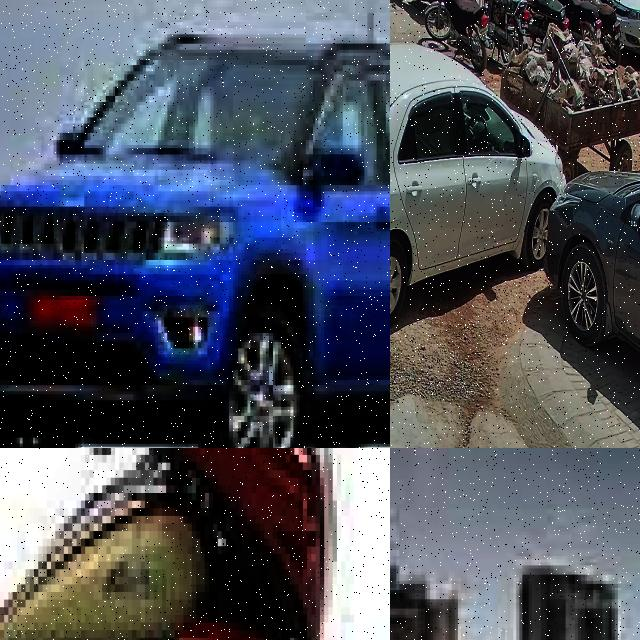bike: (0, 448, 390, 640), (424, 0, 492, 72), (569, 0, 624, 67), (473, 0, 529, 62), (510, 0, 568, 50), (548, 0, 601, 46)
car: (0, 0, 390, 448), (390, 43, 565, 328), (545, 170, 640, 448)
